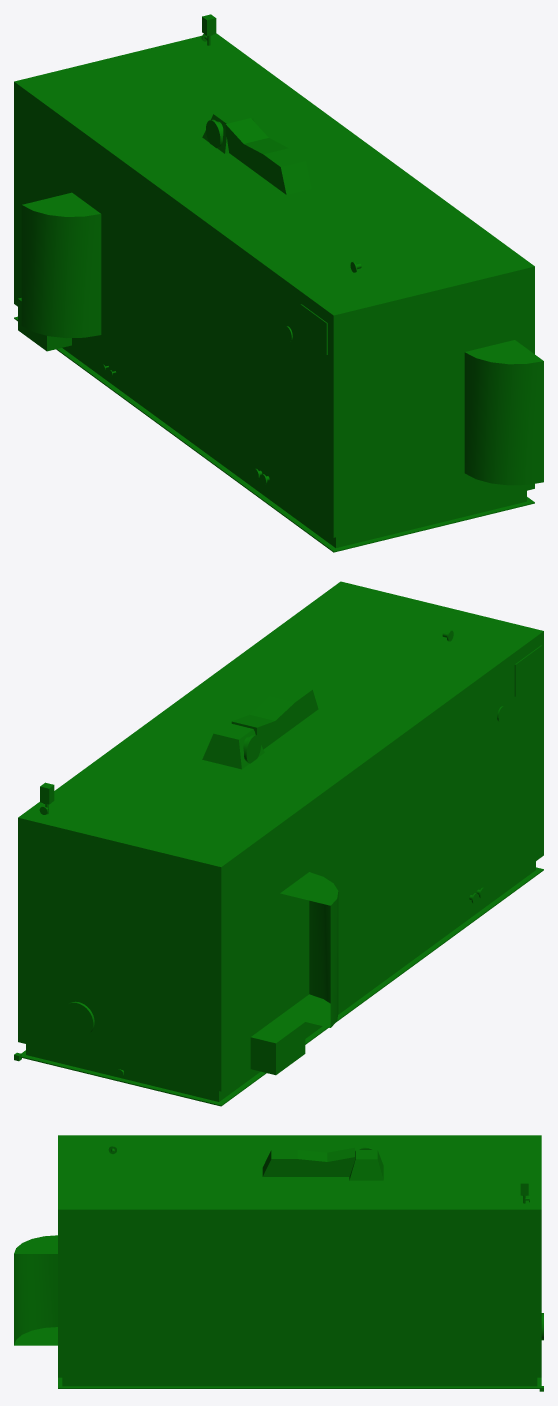
File: Image-1710907725259-2280981675024_82-XA50B.fbx
The picture shows the model from 3 angles, top to bottom: view 1: azimuth 30°, elevation 25°; view 2: azimuth 150°, elevation 25°; view 3: azimuth 270°, elevation 25°; orthographic projection. The views are drawn at different scales.
Visible parts, largest first — view 1: BOX 1 of SUBEQUIPMENT /82-XA50B/PRIM, RTORUS 1 of SUBEQUIPMENT /82-XA50B/PRIM, RTORUS 2 of SUBEQUIPMENT /82-XA50B/PRIM, BOX 4 of SUBEQUIPMENT /82-XA50B/PRIM, BOX 2 of SUBEQUIPMENT /82-XA50B/PRIM, PYRAMID 4 of SUBEQUIPMENT /82-XA50B/PRIM, PYRAMID 2 of SUBEQUIPMENT /82-XA50B/PRIM, BOX 3 of SUBEQUIPMENT /82-XA50B/NOZZ, PYRAMID 3 of SUBEQUIPMENT /82-XA50B/PRIM, BOX 3 of SUBEQUIPMENT /82-XA50B/PRIM, BOX 5 of SUBEQUIPMENT /82-XA50B/PRIM; view 2: BOX 1 of SUBEQUIPMENT /82-XA50B/PRIM, RTORUS 1 of SUBEQUIPMENT /82-XA50B/PRIM, BOX 4 of SUBEQUIPMENT /82-XA50B/PRIM, BOX 2 of SUBEQUIPMENT /82-XA50B/PRIM, BOX 5 of SUBEQUIPMENT /82-XA50B/PRIM, PYRAMID 1 of SUBEQUIPMENT /82-XA50B/PRIM, PYRAMID 3 of SUBEQUIPMENT /82-XA50B/PRIM, PYRAMID 4 of SUBEQUIPMENT /82-XA50B/PRIM, /82-XA50B/MWAY, BOX 3 of SUBEQUIPMENT /82-XA50B/PRIM, PYRAMID 2 of SUBEQUIPMENT /82-XA50B/PRIM, BOX 3 of SUBEQUIPMENT /82-XA50B/NOZZ; view 3: BOX 1 of SUBEQUIPMENT /82-XA50B/PRIM, BOX 4 of SUBEQUIPMENT /82-XA50B/PRIM, RTORUS 2 of SUBEQUIPMENT /82-XA50B/PRIM, BOX 2 of SUBEQUIPMENT /82-XA50B/PRIM, PYRAMID 1 of SUBEQUIPMENT /82-XA50B/PRIM, PYRAMID 4 of SUBEQUIPMENT /82-XA50B/PRIM, PYRAMID 3 of SUBEQUIPMENT /82-XA50B/PRIM, PYRAMID 2 of SUBEQUIPMENT /82-XA50B/PRIM, BOX 3 of SUBEQUIPMENT /82-XA50B/PRIM.
Part boxes in pixels (bbox=[...]): BOX 1 of SUBEQUIPMENT /82-XA50B/PRIM: bbox=[14, 33, 534, 536]; RTORUS 1 of SUBEQUIPMENT /82-XA50B/PRIM: bbox=[21, 192, 101, 338]; RTORUS 2 of SUBEQUIPMENT /82-XA50B/PRIM: bbox=[464, 340, 543, 485]; BOX 4 of SUBEQUIPMENT /82-XA50B/PRIM: bbox=[62, 345, 526, 547]; BOX 2 of SUBEQUIPMENT /82-XA50B/PRIM: bbox=[14, 316, 534, 552]; PYRAMID 4 of SUBEQUIPMENT /82-XA50B/PRIM: bbox=[263, 148, 311, 194]; PYRAMID 2 of SUBEQUIPMENT /82-XA50B/PRIM: bbox=[225, 118, 268, 163]; BOX 3 of SUBEQUIPMENT /82-XA50B/NOZZ: bbox=[300, 304, 327, 354]; PYRAMID 3 of SUBEQUIPMENT /82-XA50B/PRIM: bbox=[243, 138, 287, 177]; BOX 3 of SUBEQUIPMENT /82-XA50B/PRIM: bbox=[14, 303, 534, 537]; BOX 5 of SUBEQUIPMENT /82-XA50B/PRIM: bbox=[18, 298, 71, 351]; BOX 1 of SUBEQUIPMENT /82-XA50B/PRIM: bbox=[18, 581, 543, 1090]; RTORUS 1 of SUBEQUIPMENT /82-XA50B/PRIM: bbox=[280, 872, 338, 1027]; BOX 4 of SUBEQUIPMENT /82-XA50B/PRIM: bbox=[26, 861, 535, 1101]; BOX 2 of SUBEQUIPMENT /82-XA50B/PRIM: bbox=[20, 867, 543, 1106]; BOX 5 of SUBEQUIPMENT /82-XA50B/PRIM: bbox=[250, 1016, 305, 1075]; PYRAMID 1 of SUBEQUIPMENT /82-XA50B/PRIM: bbox=[202, 723, 264, 769]; PYRAMID 3 of SUBEQUIPMENT /82-XA50B/PRIM: bbox=[250, 696, 294, 740]; PYRAMID 4 of SUBEQUIPMENT /82-XA50B/PRIM: bbox=[270, 683, 318, 725]; /82-XA50B/MWAY: bbox=[61, 1001, 94, 1036]; BOX 3 of SUBEQUIPMENT /82-XA50B/PRIM: bbox=[18, 854, 543, 1091]; PYRAMID 2 of SUBEQUIPMENT /82-XA50B/PRIM: bbox=[231, 715, 275, 749]; BOX 3 of SUBEQUIPMENT /82-XA50B/NOZZ: bbox=[514, 645, 541, 696]; BOX 1 of SUBEQUIPMENT /82-XA50B/PRIM: bbox=[58, 1135, 541, 1376]; BOX 4 of SUBEQUIPMENT /82-XA50B/PRIM: bbox=[62, 1377, 537, 1386]; RTORUS 2 of SUBEQUIPMENT /82-XA50B/PRIM: bbox=[14, 1235, 57, 1345]; BOX 2 of SUBEQUIPMENT /82-XA50B/PRIM: bbox=[58, 1377, 541, 1388]; PYRAMID 1 of SUBEQUIPMENT /82-XA50B/PRIM: bbox=[349, 1150, 383, 1180]; PYRAMID 4 of SUBEQUIPMENT /82-XA50B/PRIM: bbox=[262, 1149, 297, 1176]; PYRAMID 3 of SUBEQUIPMENT /82-XA50B/PRIM: bbox=[297, 1150, 327, 1176]; PYRAMID 2 of SUBEQUIPMENT /82-XA50B/PRIM: bbox=[327, 1148, 354, 1176]; BOX 3 of SUBEQUIPMENT /82-XA50B/PRIM: bbox=[58, 1377, 541, 1377].
Bounding box in the file's own units: 5.05 × 12.05 × 5.07.
